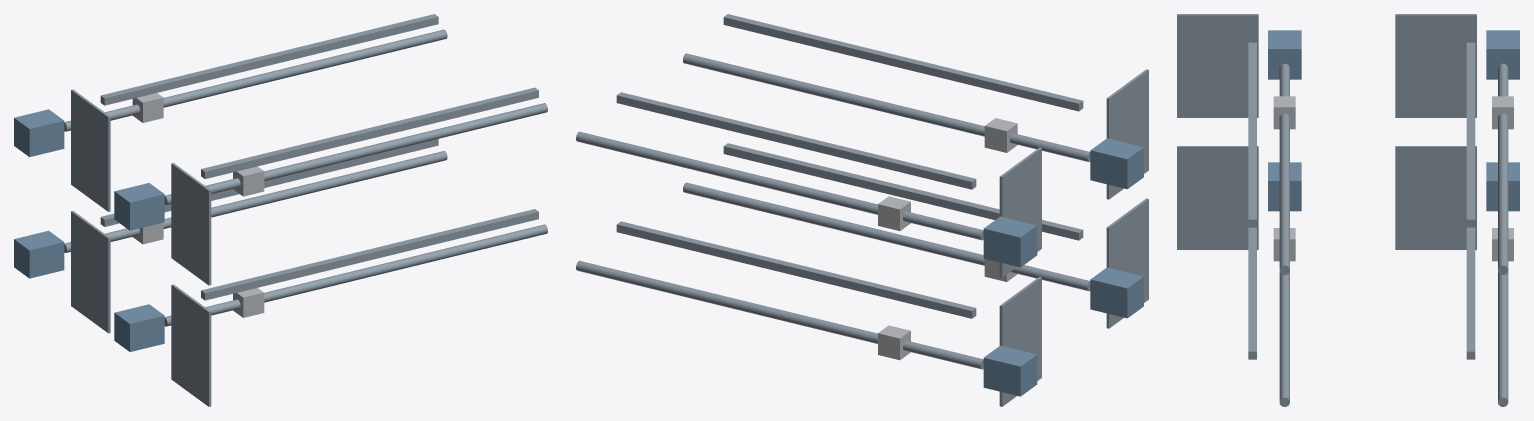
The model's file is A09_MECANISMES_EXTRACTION.glb.
3 views of the same model, side by side, from view 1: azimuth 30°, elevation 25°; view 2: azimuth 150°, elevation 25°; view 3: azimuth 270°, elevation 25° (orthographic). The views are drawn at different scales.
Parts seen in each view (by area): view 1: D05_14, D05_9, D05_19, D04_18, D04_8, D04_13, D04_3, D01_5, D01_10, D01_15, D01_0, D03_7 (+7 smaller); view 2: D05_14, D05_4, D05_19, D01_10, D01_0, D01_15, D01_5, D05_9, D04_8, D04_18, D04_13, D04_3 (+7 smaller); view 3: D04_13, D04_18, D04_3, D04_8, D01_15, D01_10, D05_14, D05_19, D03_12, D03_17, D01_5, D01_0 (+8 smaller).
Part boxes in pixels (x1,y1,x2,y2): D05_14: (100,14,438,105); D05_9: (201,209,538,300); D05_19: (201,87,538,178); D04_18: (171,163,211,285); D04_8: (171,284,211,406); D04_13: (71,89,110,211); D04_3: (71,211,110,333); D01_5: (164,224,547,326); D01_10: (64,29,447,131); D01_15: (164,103,547,205); D01_0: (64,151,447,252); D03_7: (114,304,164,351); D05_14: (616,92,976,189); D05_4: (616,221,976,318); D05_19: (723,14,1083,111); D01_10: (576,131,983,240); D01_0: (576,260,983,369); D01_15: (683,53,1090,161); D01_5: (683,182,1090,291); D05_9: (723,143,1083,240); D04_8: (1106,198,1148,328); D04_18: (1106,69,1148,199); D04_13: (999,147,1041,277); D04_3: (999,276,1041,406); D04_13: (1395,14,1476,117); D04_18: (1177,14,1258,117); D04_3: (1395,146,1476,249); D04_8: (1177,146,1258,249); D01_15: (1279,63,1289,274); D01_10: (1498,63,1508,274); D05_14: (1466,42,1475,227); D05_19: (1248,42,1256,227); D03_12: (1486,30,1519,79); D03_17: (1268,30,1301,79); D01_5: (1279,271,1289,406); D01_0: (1498,272,1508,406).
Bounding box in the file's own units: 912 × 445 × 589.
